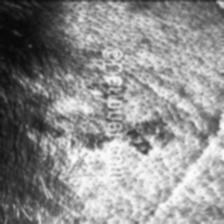Potentially Malignant Skin Tumors: (126, 117, 172, 153)
